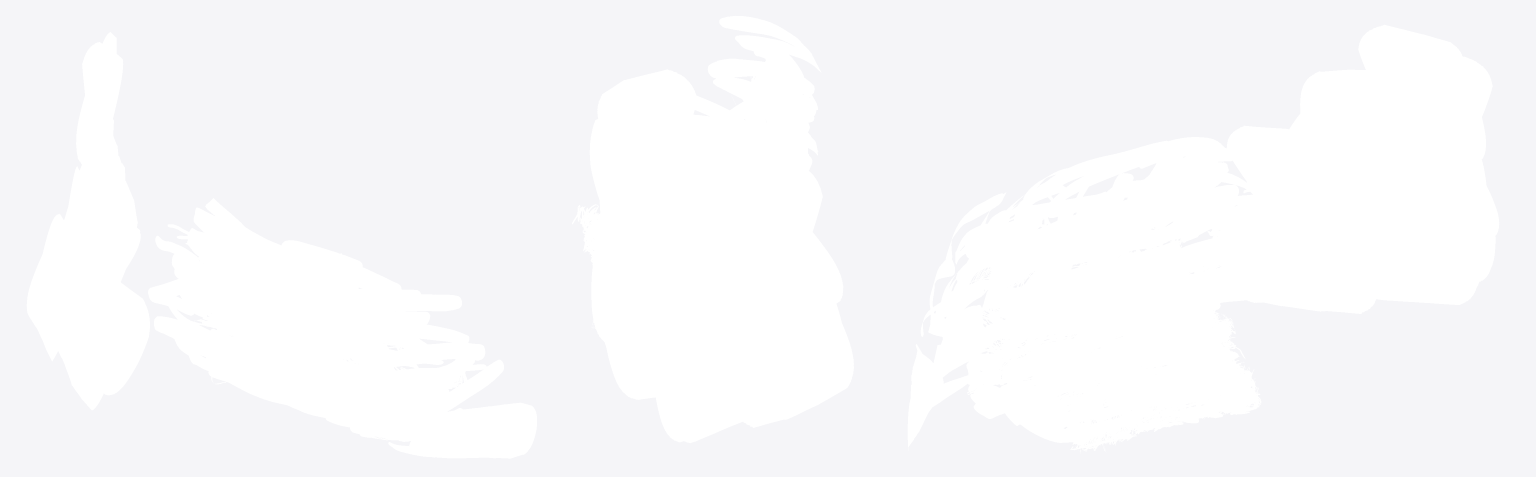
File: Wheatfield with Cypresses.glb
3 views of the same model, side by side, from view 1: azimuth 30°, elevation 25°; view 2: azimuth 150°, elevation 25°; view 3: azimuth 270°, elevation 25° (orthographic). The views are drawn at different scales.
Parts seen in each view (by area): view 1: Marker_geo, Marker_geo_Marker_0.003, Marker_geo_Marker_0.004; view 2: Marker_geo, Marker_geo_Marker_0.003, Marker_geo_Marker_0.001; view 3: Marker_geo, Marker_geo_Marker_0.003, Marker_geo_Marker_0.001, Marker_geo_Marker_0.005, Marker_geo_Marker_0.004, Marker_geo_Marker_0.002, Marker_geo_Marker_0.006.
Part boxes in pixels (bbox=[...]): Marker_geo: bbox=[26, 32, 460, 410]; Marker_geo_Marker_0.003: bbox=[148, 219, 536, 458]; Marker_geo_Marker_0.004: bbox=[256, 346, 387, 440]; Marker_geo: bbox=[580, 39, 853, 442]; Marker_geo_Marker_0.003: bbox=[572, 16, 821, 225]; Marker_geo_Marker_0.001: bbox=[580, 208, 600, 333]; Marker_geo: bbox=[944, 24, 1499, 451]; Marker_geo_Marker_0.003: bbox=[907, 140, 1293, 453]; Marker_geo_Marker_0.001: bbox=[966, 198, 1261, 451]; Marker_geo_Marker_0.005: bbox=[1000, 323, 1251, 448]; Marker_geo_Marker_0.004: bbox=[990, 243, 1235, 404]; Marker_geo_Marker_0.002: bbox=[934, 242, 1230, 407]; Marker_geo_Marker_0.006: bbox=[1036, 356, 1153, 411].
Bounding box in the file's own units: 5.3 × 4.83 × 7.78.
2 materials, 2 textured.
